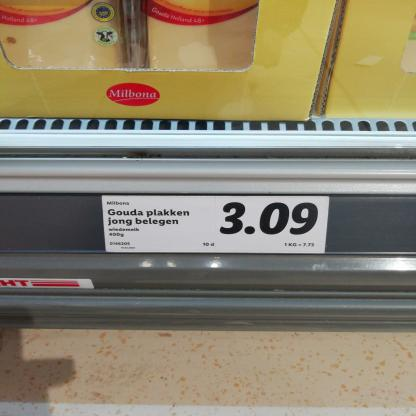prtg: (103, 196, 330, 255)
